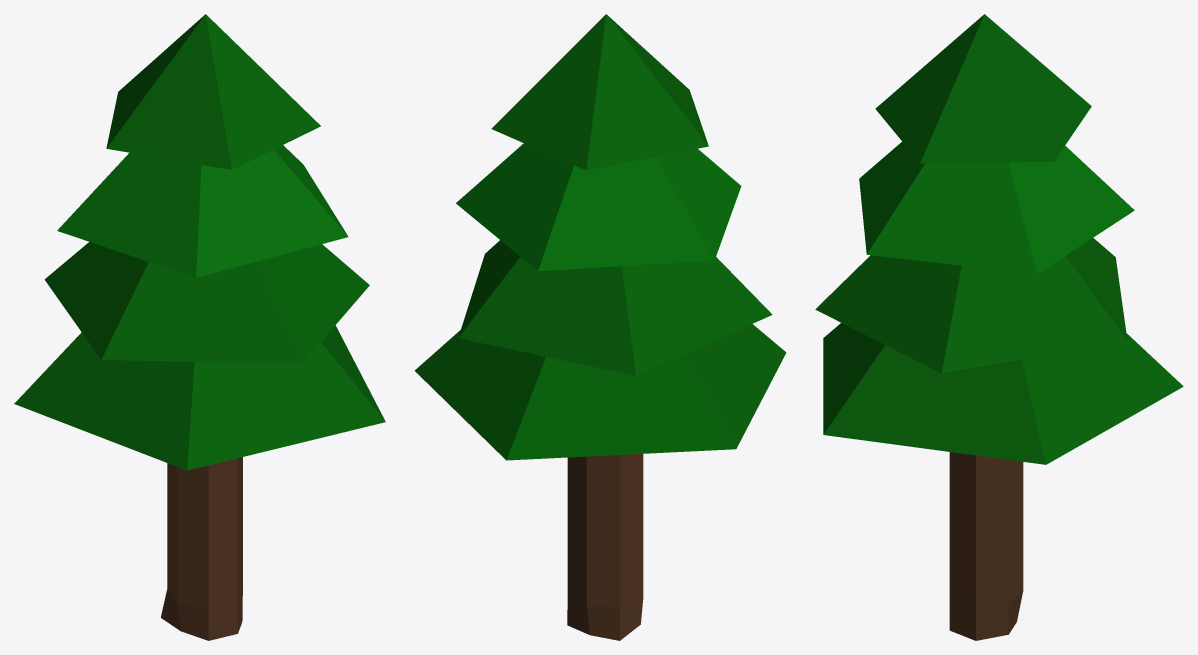
The model's file is livingtreeforest1.fbx.
3 views of the same model, side by side, from view 1: azimuth 30°, elevation 25°; view 2: azimuth 150°, elevation 25°; view 3: azimuth 270°, elevation 25° (orthographic).
Visible parts, largest first — view 1: Cone.005; view 2: Cone.005; view 3: Cone.005.
Boxes of the visible parts, <box> form: Cone.005: <box>14,14,385,640</box>; Cone.005: <box>414,14,786,640</box>; Cone.005: <box>815,14,1183,640</box>.
Bounding box in the file's own units: 171 × 312 × 171.
